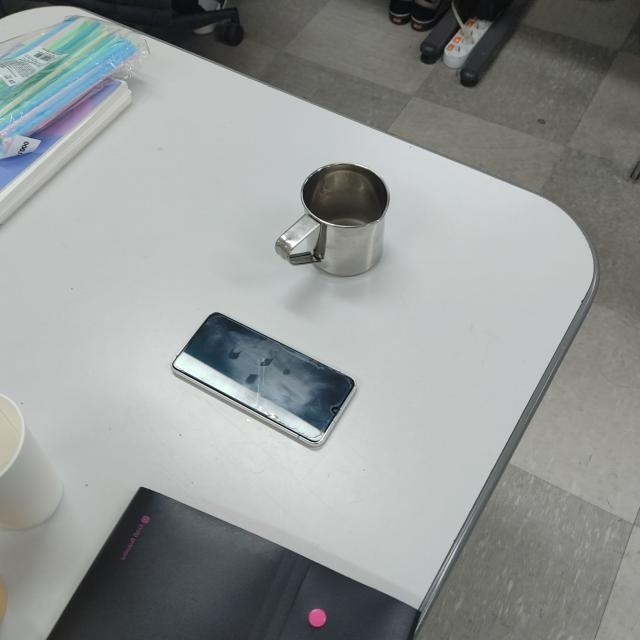cup: (275, 162, 389, 277)
phone: (173, 308, 356, 451)
